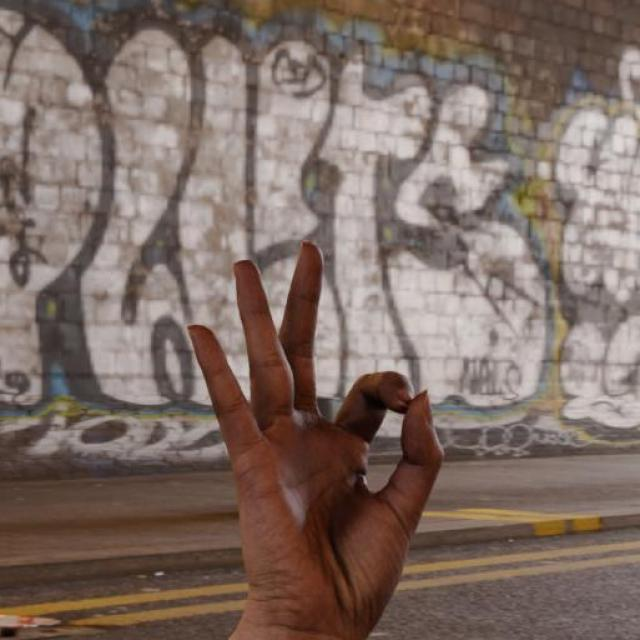F: (183, 236, 450, 632)
